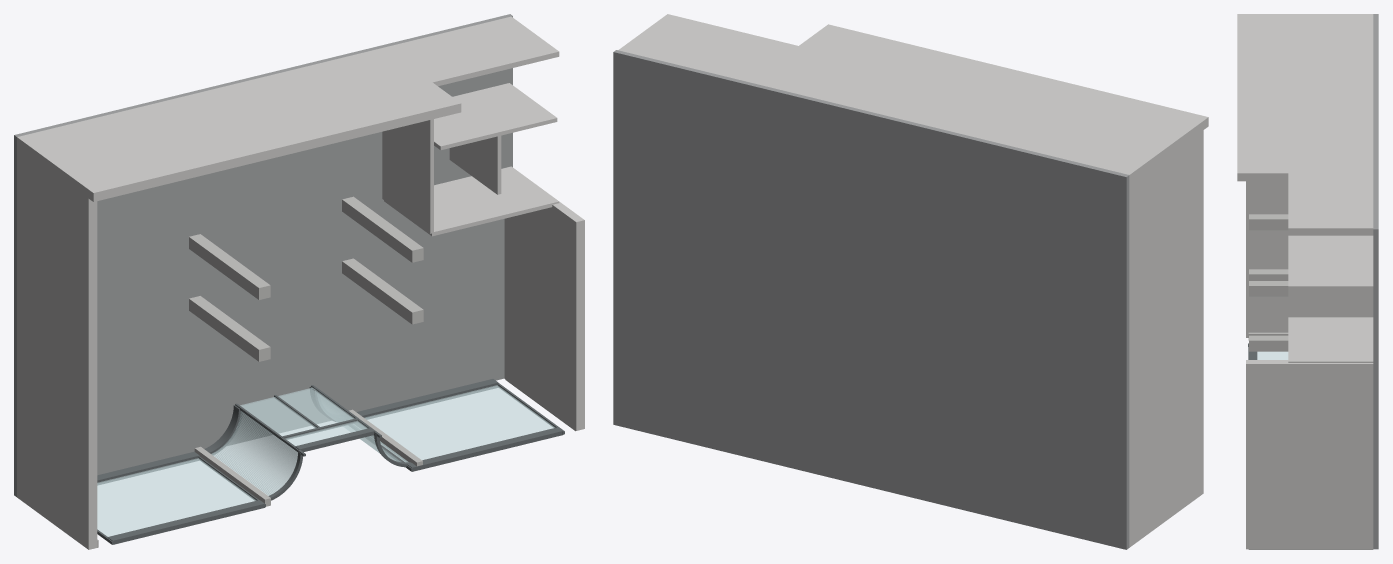
File: Schaufenster_Galerie_3D_v8.glb
The picture shows the model from 3 angles, left to right: view 1: azimuth 30°, elevation 25°; view 2: azimuth 150°, elevation 25°; view 3: azimuth 270°, elevation 25°; orthographic projection. The views are drawn at different scales.
Parts seen in each view (by area): view 1: Boden, Rueckwand Hauptgalerie, Linke Aussenwand, Rechte Aussenwand, Schaufenster_EIN_Glas_Rechts_0, Schaufenster_EIN_Glas_Links_0, Anbau_Obere_Aussenwand, Anbau_Querwand, Anbau_Seitenwand, Anbau_WC_Trennwand, Eingang_Glastueren_0, Anbau_Abstellraum (+10 smaller); view 2: Boden, Rueckwand Hauptgalerie, Linke Aussenwand, Anbau_Obere_Aussenwand; view 3: Rechte Aussenwand, Rueckwand Hauptgalerie, Linke Aussenwand, Anbau_Obere_Aussenwand, Anbau_WC_Trennwand, Anbau_Querwand, Boden, Anbau_Abstellraum, Stuetze_1, Stuetze_2, Stuetze_3, Stuetze (+2 smaller).
Boxes of the visible parts, x1,y1,x2,y2 form: Boden: (14,14,512,496); Rueckwand Hauptgalerie: (17,47,461,201); Linke Aussenwand: (17,135,97,549); Rechte Aussenwand: (504,201,584,430); Schaufenster_EIN_Glas_Rechts_0: (364,385,554,461); Schaufenster_EIN_Glas_Links_0: (97,458,256,536); Anbau_Obere_Aussenwand: (384,16,559,86); Anbau_Querwand: (384,166,559,236); Anbau_Seitenwand: (382,119,433,233); Anbau_WC_Trennwand: (434,83,557,150); Eingang_Glastueren_0: (240,387,354,436); Anbau_Abstellraum: (449,134,501,194); Boden: (613,50,1129,549); Rueckwand Hauptgalerie: (750,24,1208,181); Linke Aussenwand: (1122,119,1203,547); Anbau_Obere_Aussenwand: (618,14,798,82); Rechte Aussenwand: (1246,360,1373,549); Rueckwand Hauptgalerie: (1237,14,1373,181); Linke Aussenwand: (1246,14,1373,337); Anbau_Obere_Aussenwand: (1288,173,1373,232); Anbau_WC_Trennwand: (1288,235,1373,289); Anbau_Querwand: (1288,317,1373,362); Boden: (1373,14,1378,549); Anbau_Abstellraum: (1288,289,1373,317); Stuetze_1: (1249,214,1288,230); Stuetze_2: (1249,335,1288,351); Stuetze_3: (1249,281,1288,296); Stuetze: (1249,269,1288,280).
Size of the model in its own units: 16.14 by 11.28 by 4.47.
